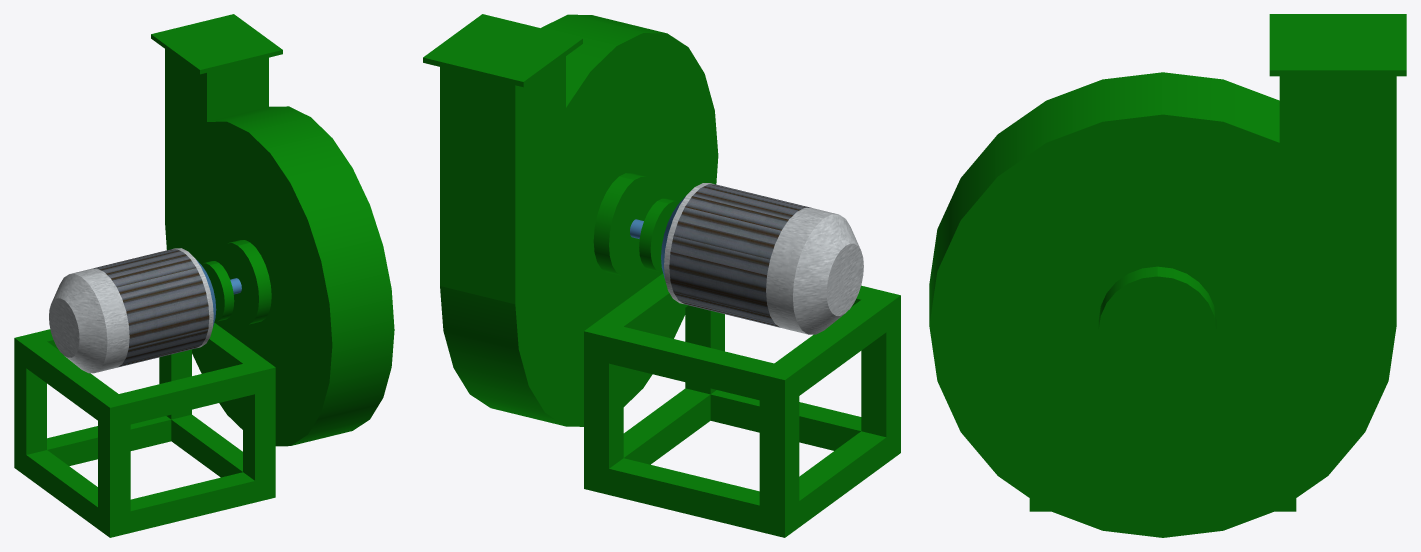
Rendered from 鼓风机.glb.
3 views of the same model, side by side, from view 1: azimuth 30°, elevation 25°; view 2: azimuth 150°, elevation 25°; view 3: azimuth 270°, elevation 25° (orthographic). The views are drawn at different scales.
Visible parts, largest first — view 1: root; view 2: root; view 3: root.
Boxes of the visible parts, x1=… form: root: x1=14, y1=14, x2=394, y2=537; root: x1=423, y1=14, x2=900, y2=537; root: x1=929, y1=14, x2=1406, y2=537.
Bounding box in the file's own units: 1.27 × 1.67 × 1.43.
4 materials, 2 textured.
